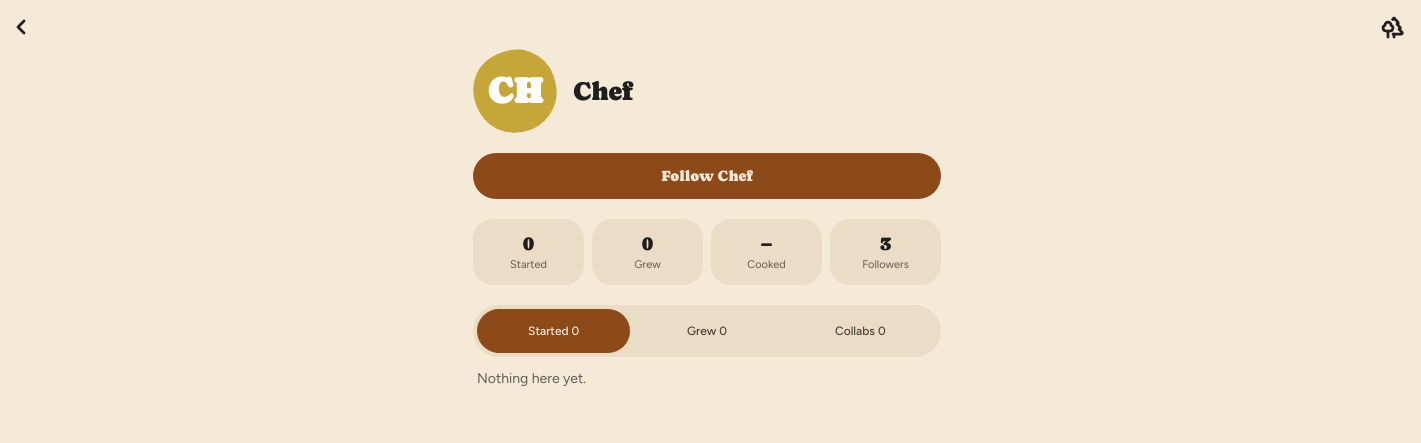
ProfilePage sign-up gates › shows the follow error under the Follow button when the write fails
Click the button "Follow Chef" at (707, 176), box [473,153,941,199]
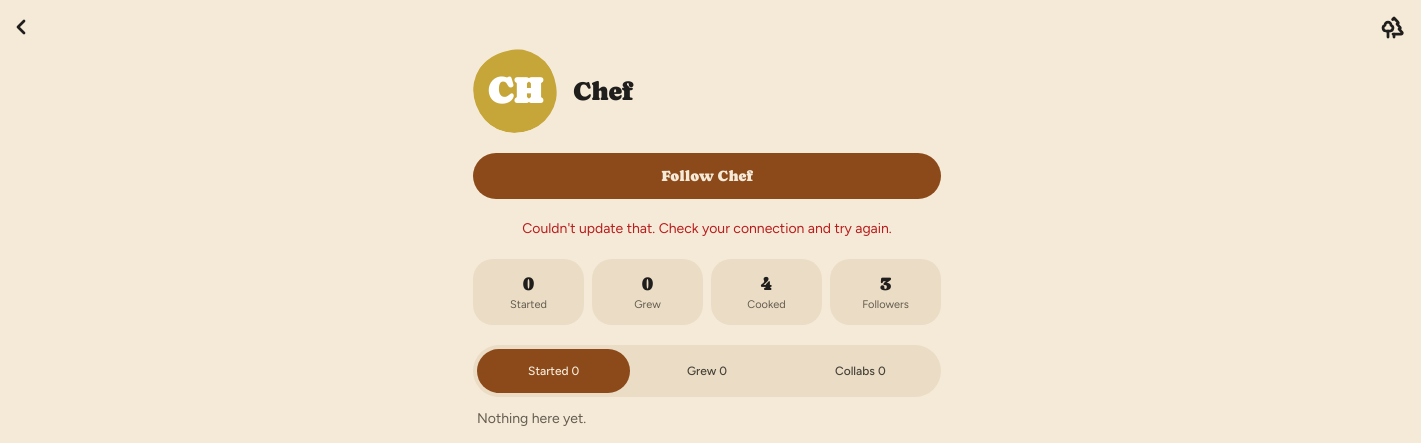
Check: the message reads "Couldn't update that. Check your connection and try again.", box [522,220,892,237]
